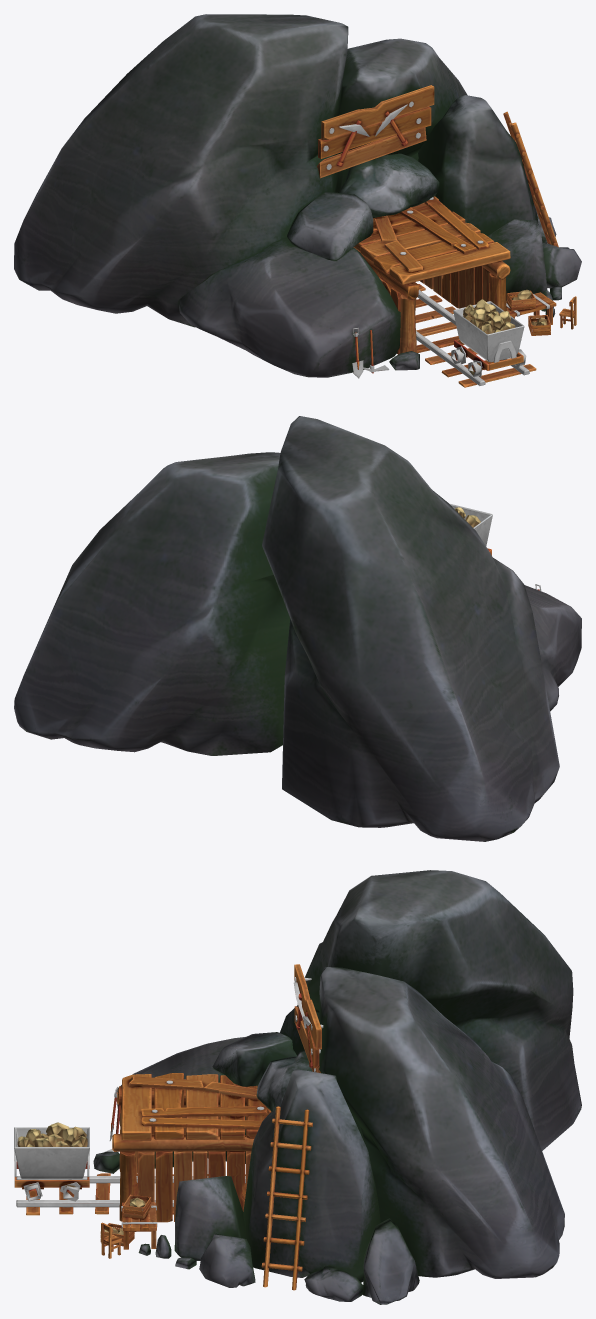
Rendered from mina.glb.
The picture shows the model from 3 angles, top to bottom: view 1: azimuth 30°, elevation 25°; view 2: azimuth 150°, elevation 25°; view 3: azimuth 270°, elevation 25°; orthographic projection. The views are drawn at different scales.
Parts seen in each view (by area): view 1: Rocks, Wood, Gold; view 2: Rocks, Wood; view 3: Rocks, Wood, Gold.
Part boxes in pixels (x1,y1,x2,y2): Rocks: [14, 14, 581, 377]; Wood: [317, 85, 576, 387]; Gold: [463, 289, 547, 334]; Rocks: [14, 416, 581, 841]; Wood: [449, 503, 541, 590]; Rocks: [93, 870, 581, 1304]; Wood: [14, 964, 323, 1290]; Gold: [17, 1122, 145, 1238].
Size of the model in its own units: 1.94 by 1.02 by 1.86.
Materials: 1 (1 with a texture image).
